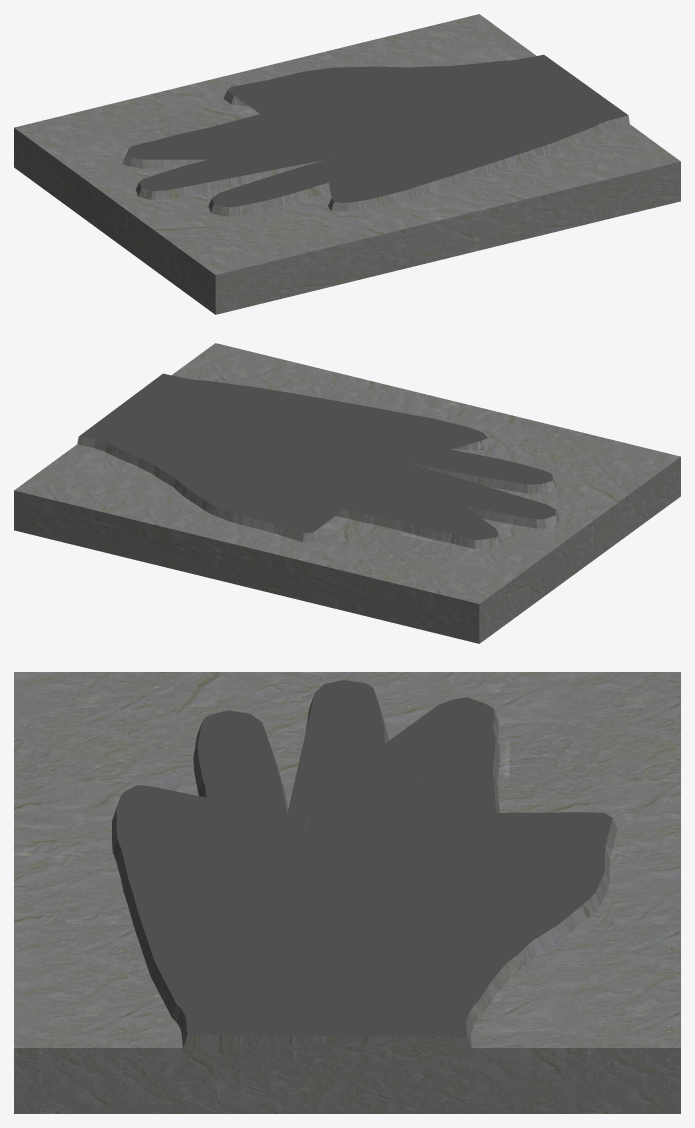
File: hand plate.fbx
3 views of the same model, one above another, from view 1: azimuth 30°, elevation 25°; view 2: azimuth 150°, elevation 25°; view 3: azimuth 270°, elevation 25° (orthographic). The views are drawn at different scales.
Visible parts, largest first — view 1: Cube.001; view 2: Cube.001; view 3: Cube.001.
Boxes of the visible parts, box(x1,y1,x2,y2) form: Cube.001: box(14, 14, 680, 314); Cube.001: box(14, 343, 680, 643); Cube.001: box(14, 672, 680, 1113).
Bounding box in the file's own units: 40 × 3.92 × 30.
